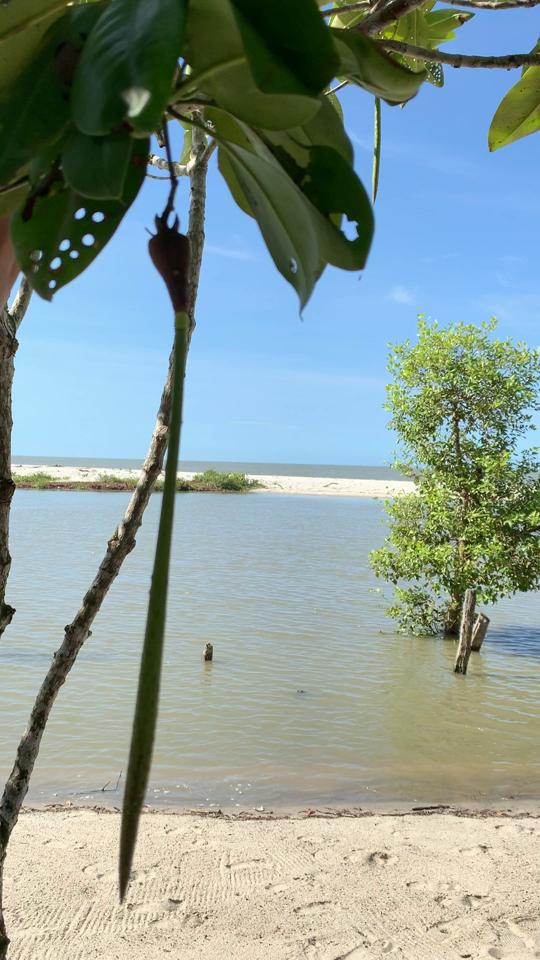setengah matang: (106, 208, 201, 912)
